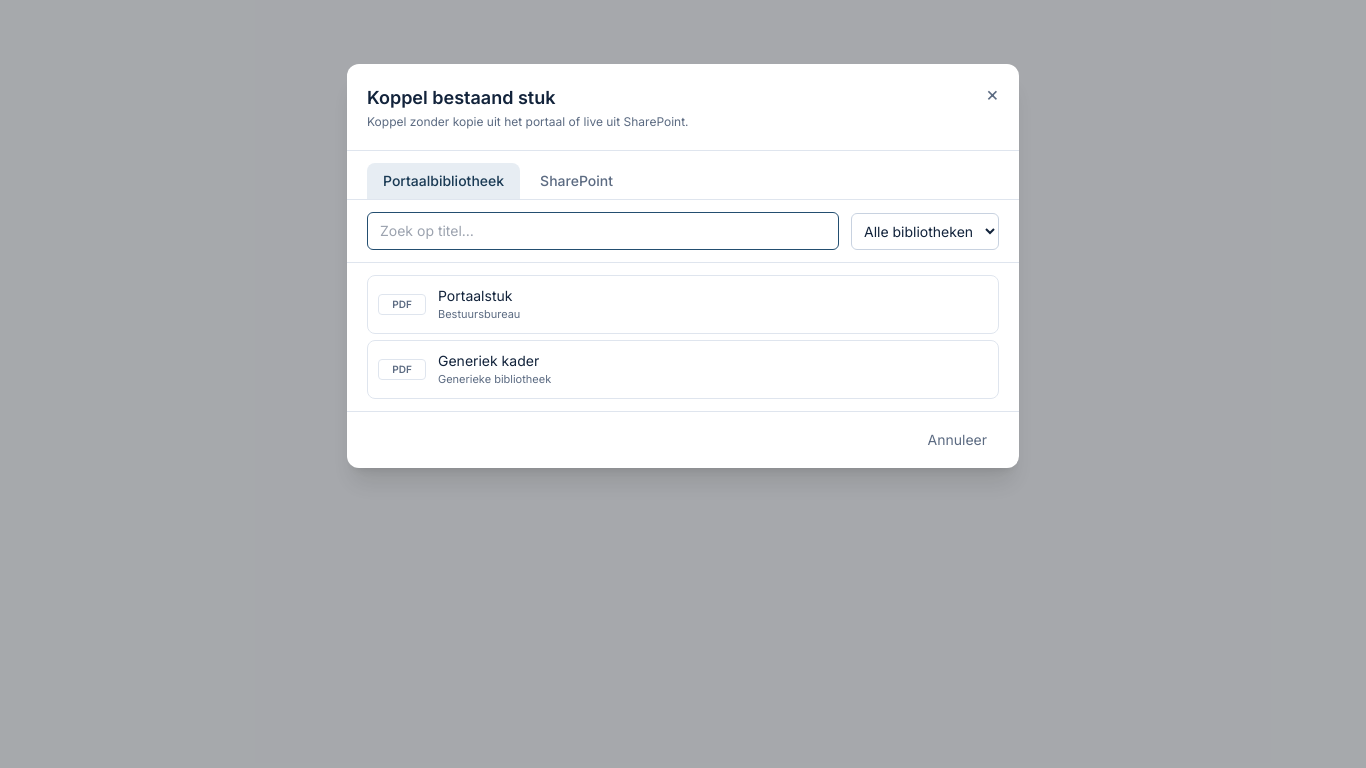
AgendapuntBronPicker › biedt de bronkeuze Portaalbibliotheek en SharePoint
Expected: the text "Portaalstuk" is shown, top-left (438, 286), bottom-right (520, 306)
What coordinates should you click on to do the following:
click the tab "SharePoint"
I would click on:
 (577, 181)
Its box is top-left (524, 163), bottom-right (629, 199).
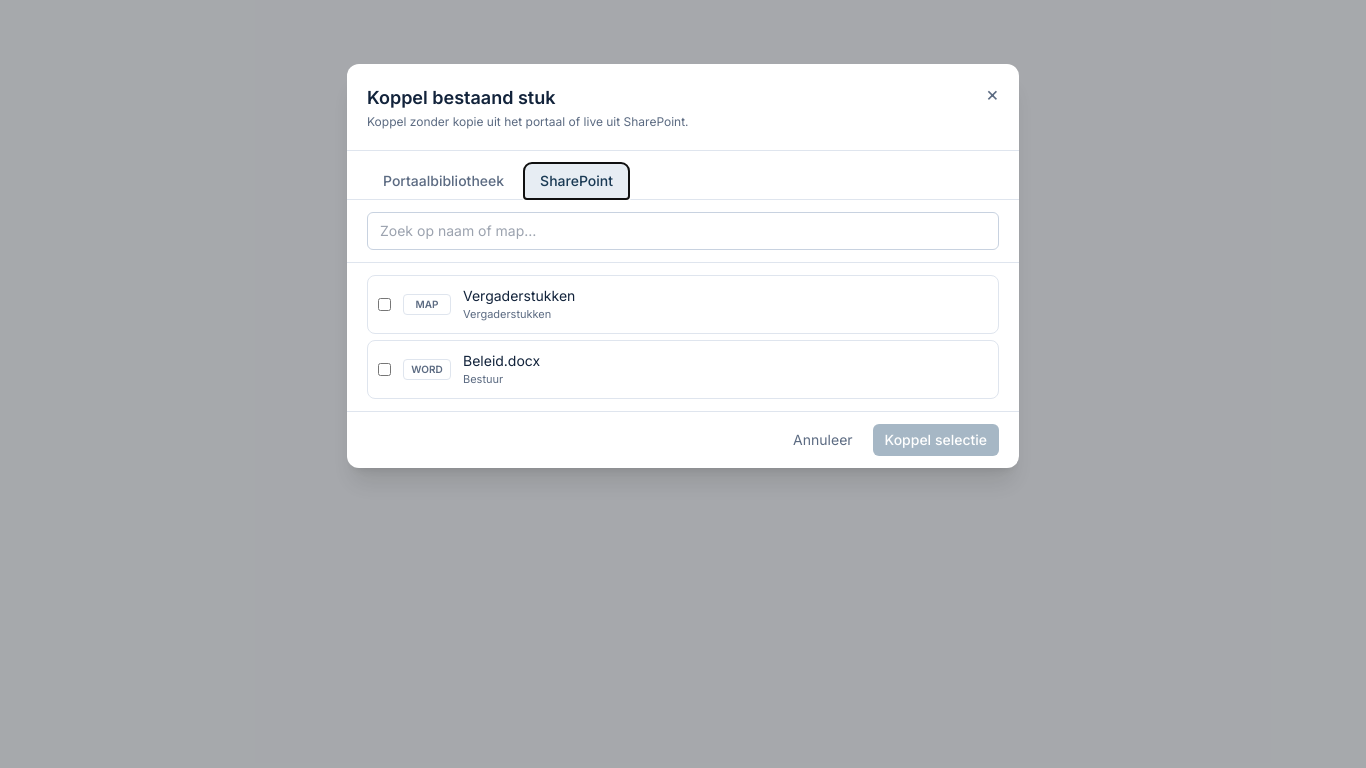
Expected: the text "Beleid.docx" is shown, top-left (463, 351), bottom-right (540, 371)
Expected: the checkbox named "Selecteer Vergaderstukken" is shown, top-left (378, 298), bottom-right (391, 311)
